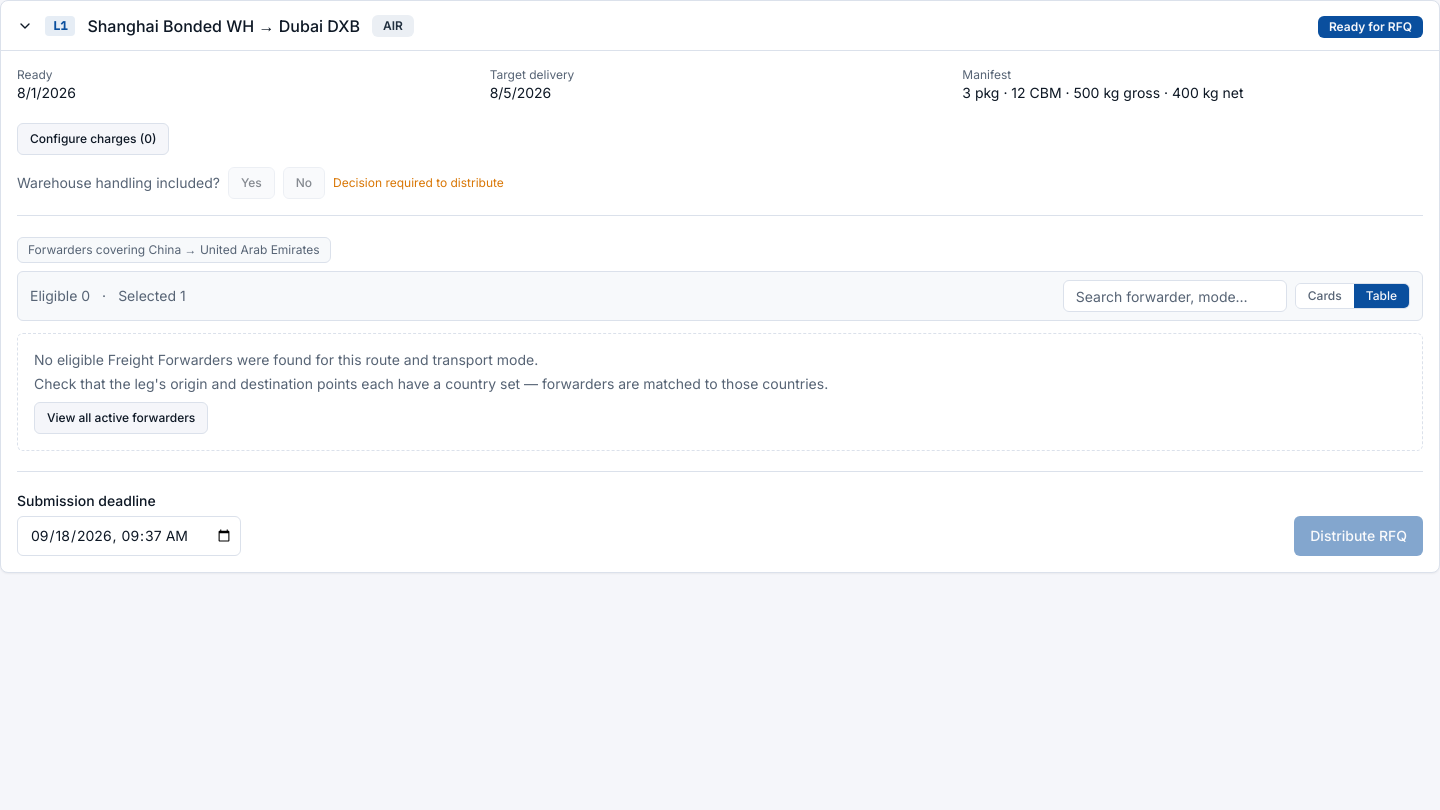
Test: LegPanel › disables the Configure-charges control and the warehouse toggle once a quote is no longer SELECT (hasSent)
The image size is (1440, 810).
Expected: the button "Yes" is disabled, top-left (228, 167), bottom-right (275, 199)
Expected: the button "No" is disabled, top-left (283, 167), bottom-right (325, 199)
Click the button "Configure charges (0)": (93, 139) top-left (17, 123), bottom-right (169, 155)
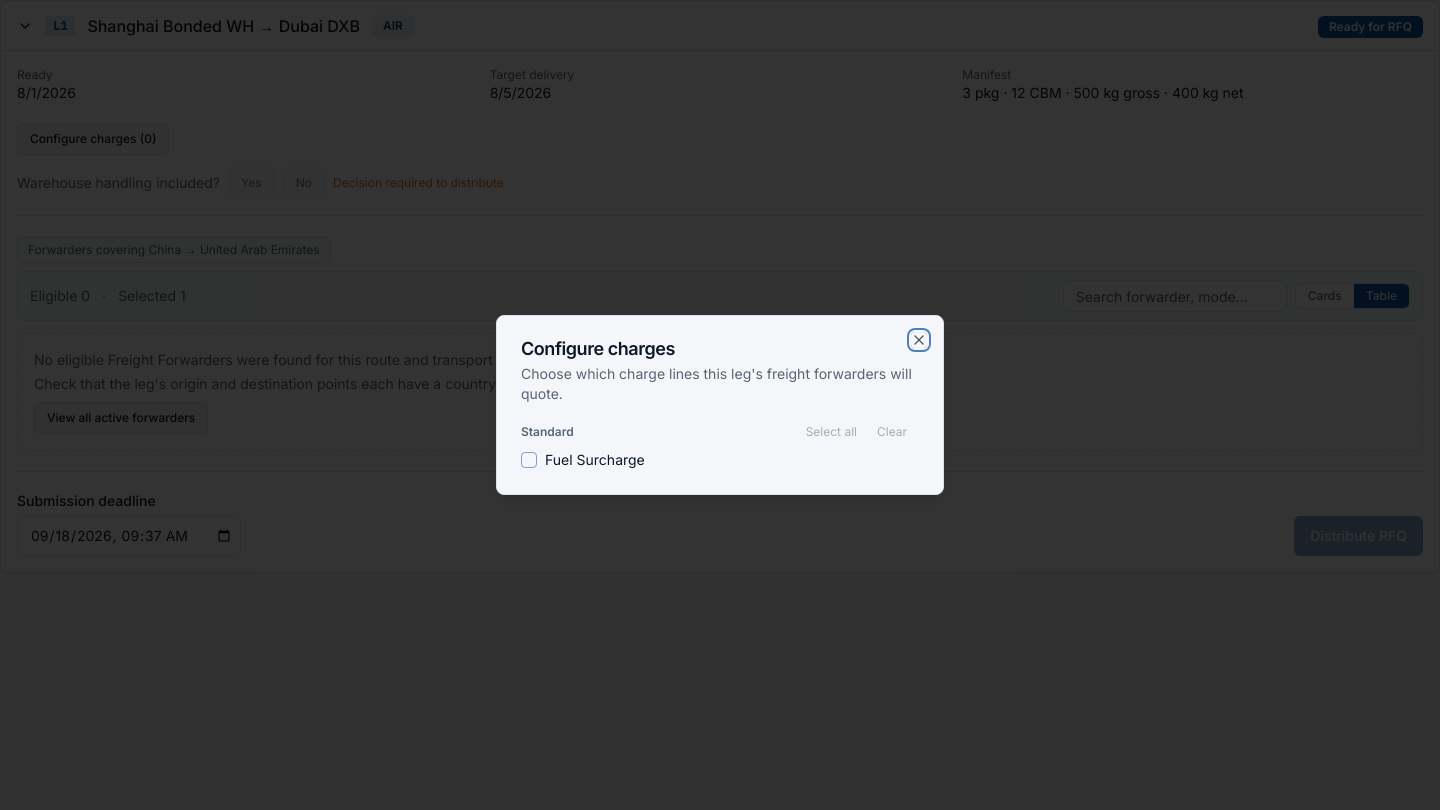
Expected: the checkbox named "fuel surcharge" is disabled, top-left (521, 452), bottom-right (537, 468)
